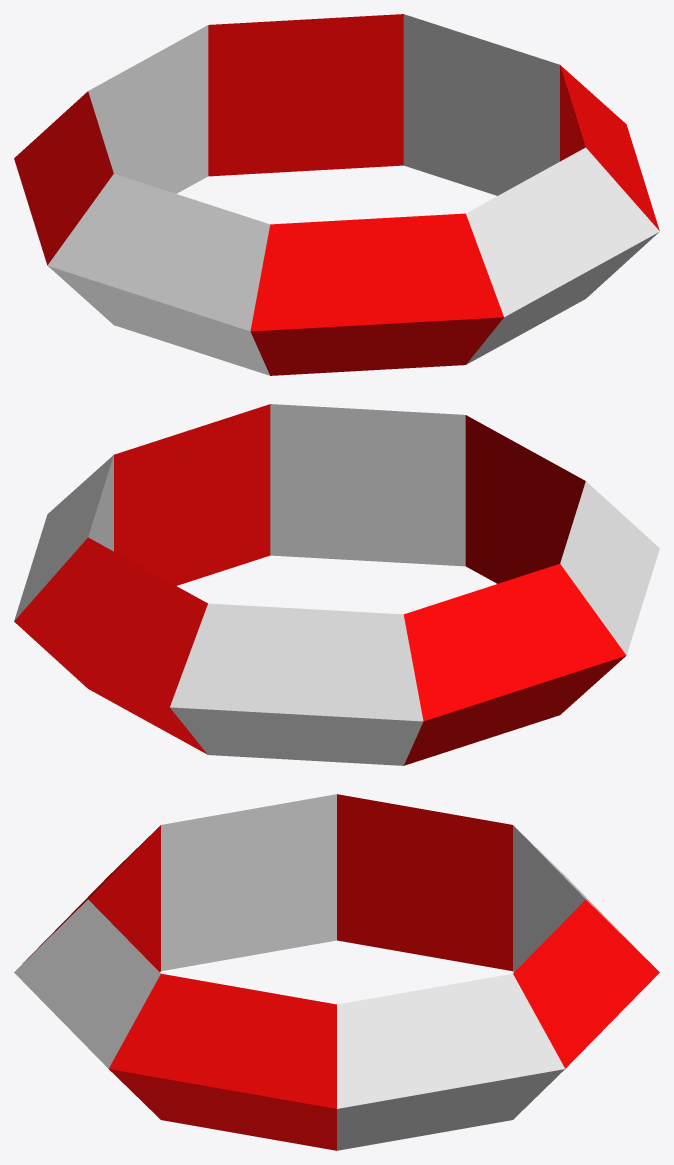
The model's file is ring01.fbx.
The picture shows the model from 3 angles, top to bottom: view 1: azimuth 30°, elevation 25°; view 2: azimuth 150°, elevation 25°; view 3: azimuth 270°, elevation 25°; orthographic projection. The views are drawn at different scales.
Visible parts, largest first — view 1: ring01; view 2: ring01; view 3: ring01.
Boxes of the visible parts, x1,y1,x2,y2 form: ring01: (14,14,659,375); ring01: (14,404,659,765); ring01: (14,794,659,1150).
Bounding box in the file's own units: 400 × 100 × 400.
Materials: 1 (1 with a texture image).
